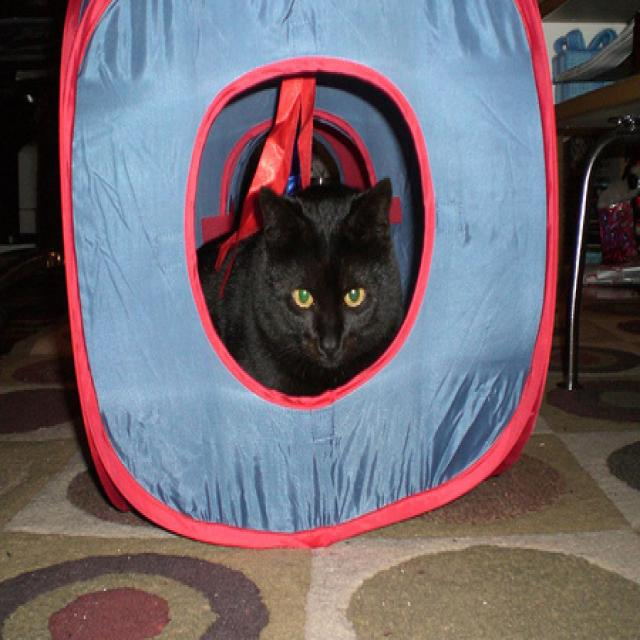Bombay: (185, 173, 410, 398)
